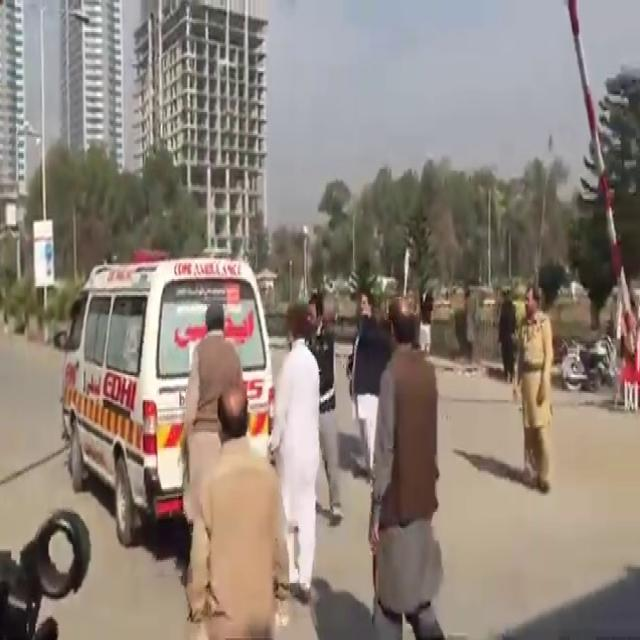ambulance: (61, 235, 272, 520)
